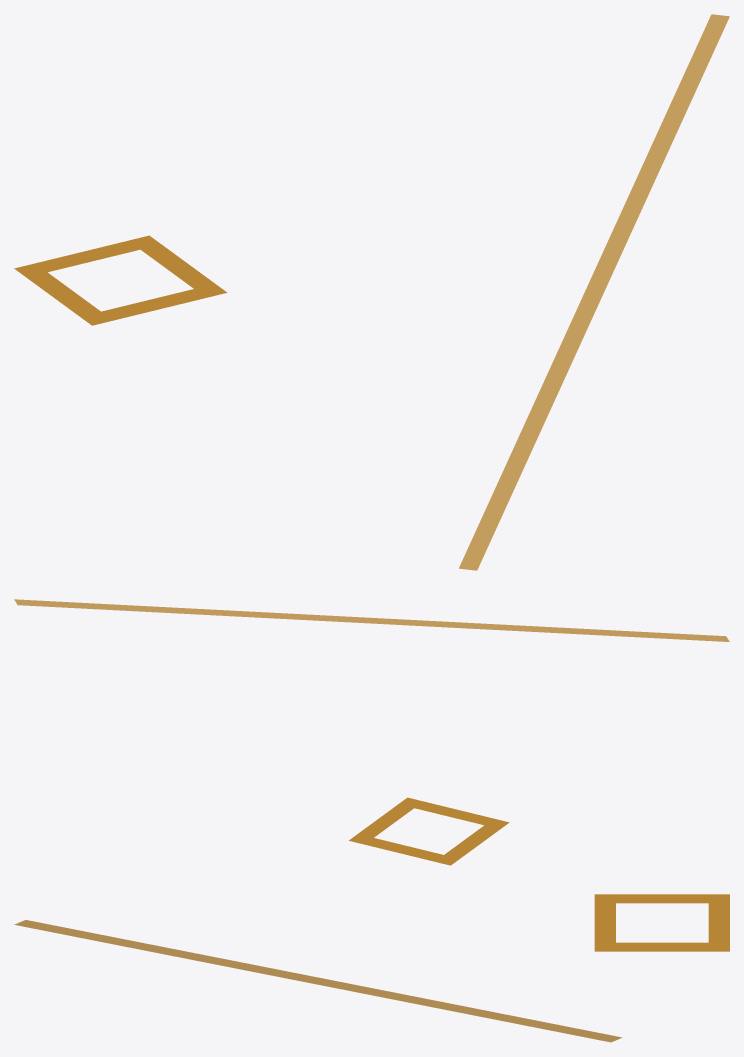
The model's file is kd_stage_136282_3_37.glb.
3 views of the same model, one above another, from view 1: azimuth 30°, elevation 25°; view 2: azimuth 150°, elevation 25°; view 3: azimuth 270°, elevation 25° (orthographic). The views are drawn at different scales.
Visible parts, largest first — view 1: kd_stage_136282_3_37; view 2: kd_stage_136282_3_37; view 3: kd_stage_136282_3_37.
Boxes of the visible parts, left/top/right/bottom form: kd_stage_136282_3_37: left=14, top=14, right=729, bottom=570; kd_stage_136282_3_37: left=14, top=599, right=729, bottom=865; kd_stage_136282_3_37: left=14, top=894, right=729, bottom=1042.
Bounding box in the file's own units: 3.04 × 0.6998 × 3.37.
1 material, 1 textured.
